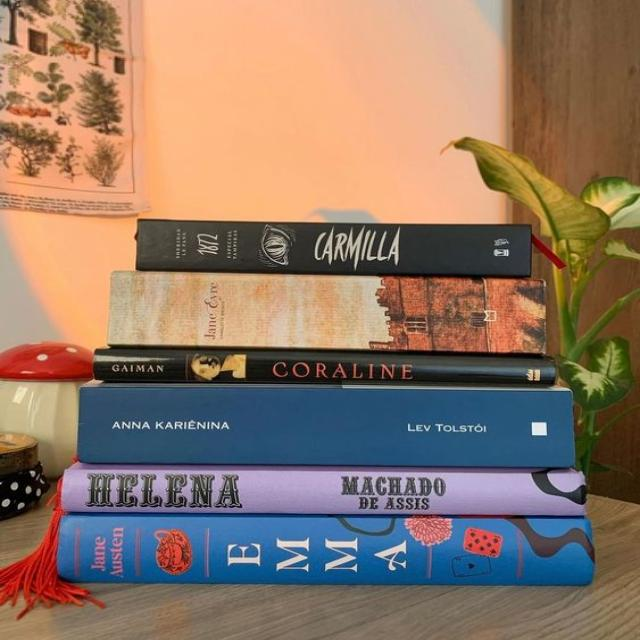book: (79, 389, 575, 467), (60, 515, 591, 586), (109, 273, 546, 352), (63, 470, 586, 516), (137, 219, 531, 277), (96, 351, 557, 385)
